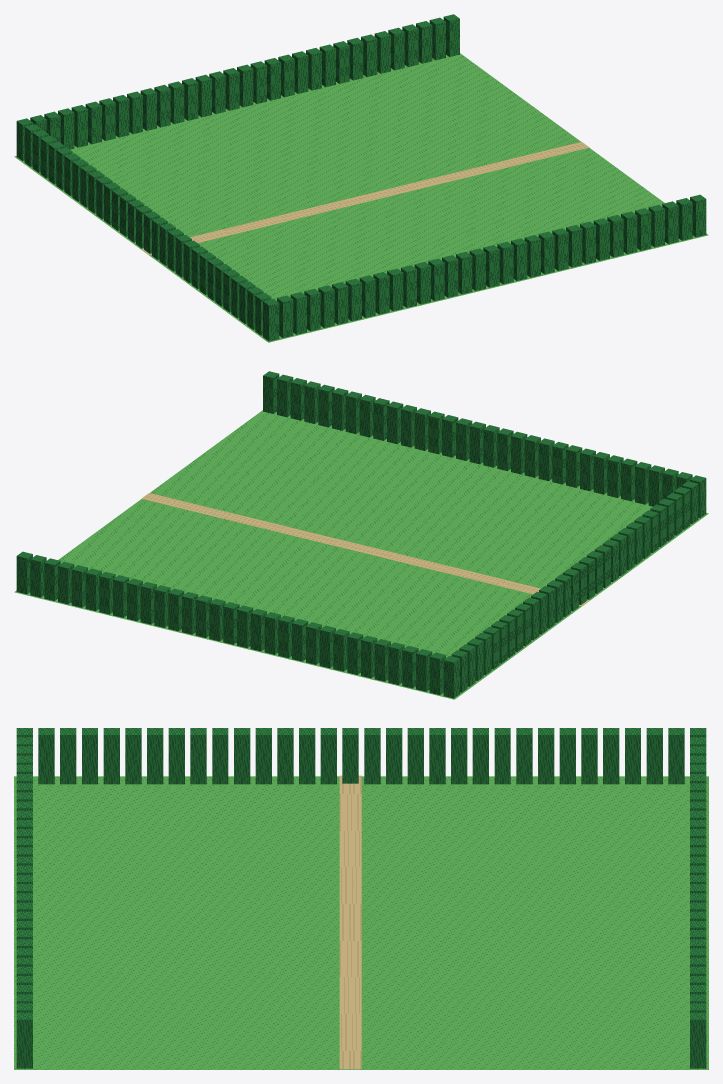
The model's file is town-west.gltf.
3 renders of one model, top to bottom at view 1: azimuth 30°, elevation 25°; view 2: azimuth 150°, elevation 25°; view 3: azimuth 270°, elevation 25°, orthographic. The views are drawn at different scales.
Parts seen in each view (by area): view 1: town-west; view 2: town-west; view 3: town-west.
Boxes of the visible parts, x1=… form: town-west: x1=14, y1=14, x2=708, y2=342; town-west: x1=14, y1=371, x2=708, y2=699; town-west: x1=14, y1=728, x2=708, y2=1069.
Size of the model in its own units: 512 by 40 by 512.
3 materials, 3 textured.
